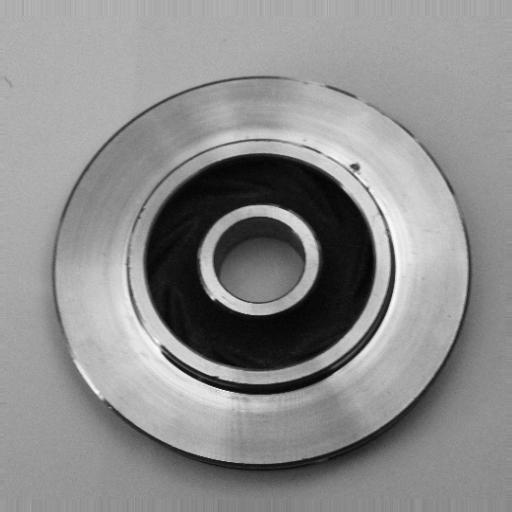crack: (342, 150, 370, 180)
scratch: (117, 261, 168, 357)
unpolished_casting: (53, 72, 472, 471)
